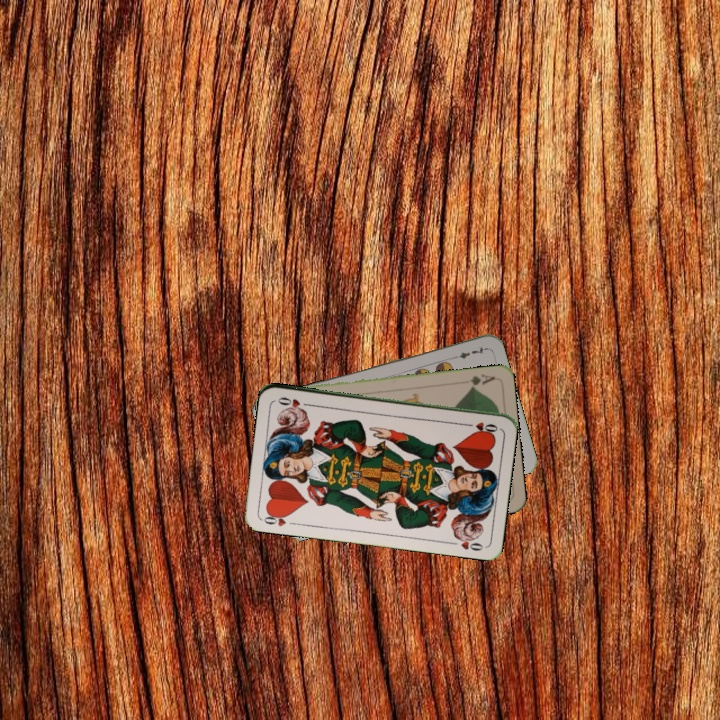E7: (448, 343, 488, 362)
GA: (466, 370, 498, 391)
HO: (258, 508, 292, 529), (460, 418, 500, 435)
